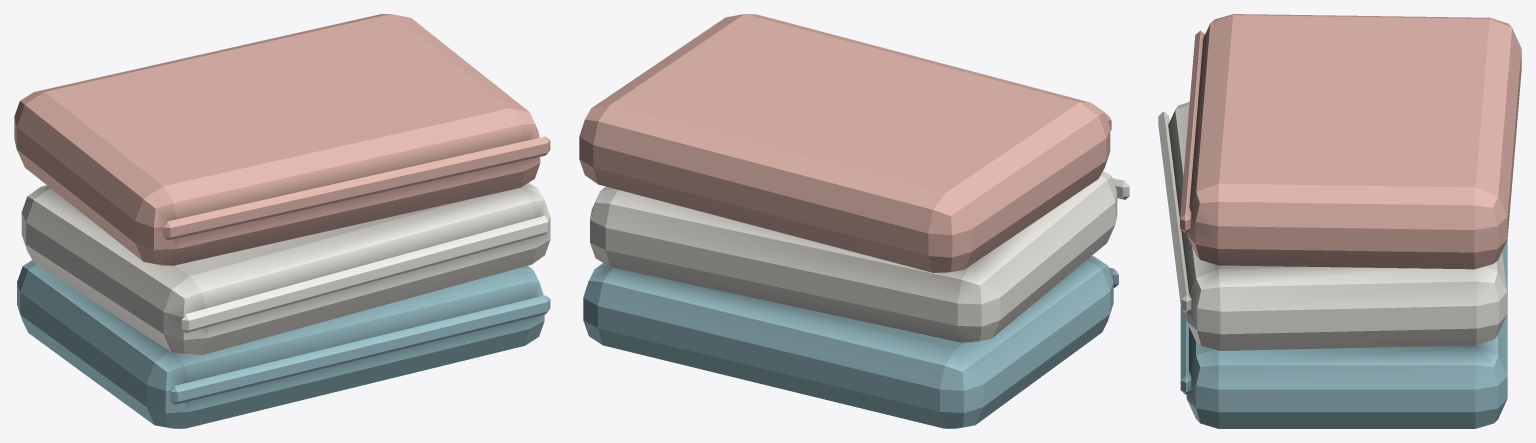
Rendered from towelStack.glb.
3 renders of one model, left to right at view 1: azimuth 30°, elevation 25°; view 2: azimuth 150°, elevation 25°; view 3: azimuth 270°, elevation 25°, orthographic.
Parts seen in each view (by area): view 1: towelStack; view 2: towelStack; view 3: towelStack.
Boxes of the visible parts, x1,y1,x2,y2 form: towelStack: (14, 14, 550, 428); towelStack: (579, 14, 1129, 428); towelStack: (1158, 14, 1521, 428).
Size of the model in its own units: 0.2672 by 0.15 by 0.2037.
